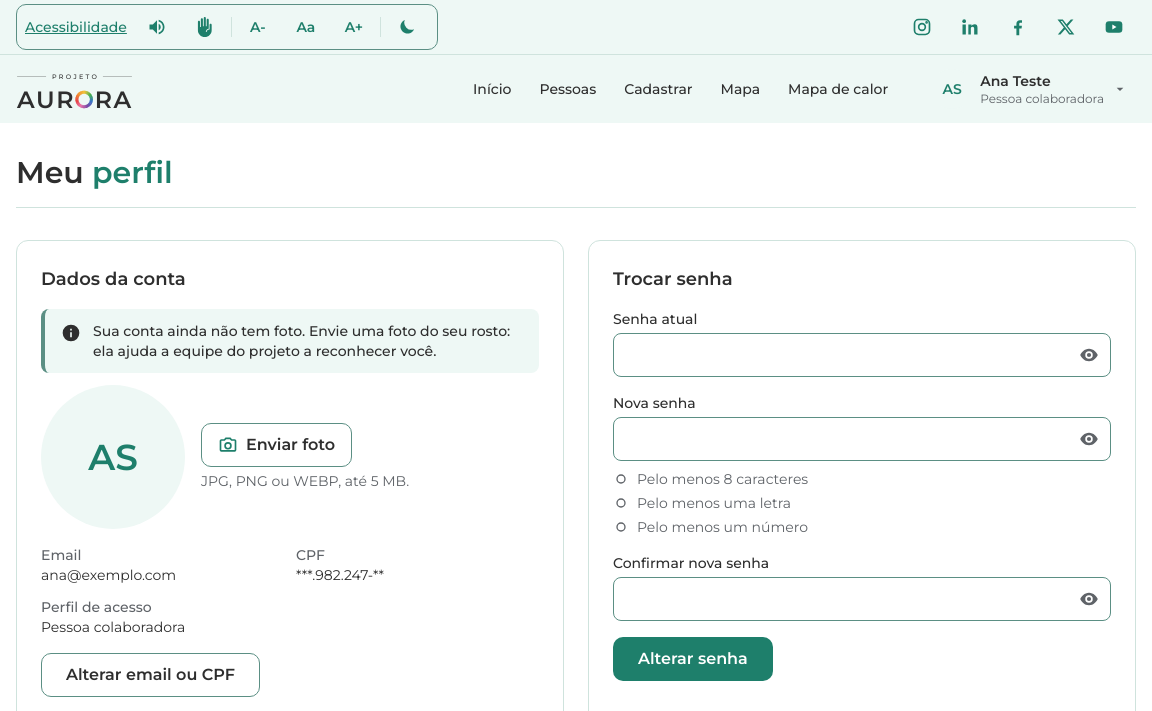
Test: Meu perfil: alterar email ou CPF › pede as duas trocas no popup e mostra que esperam a aprovação
The image size is (1152, 711).
Click the button "Alterar email ou CPF" at (150, 675), box [41, 653, 260, 697]
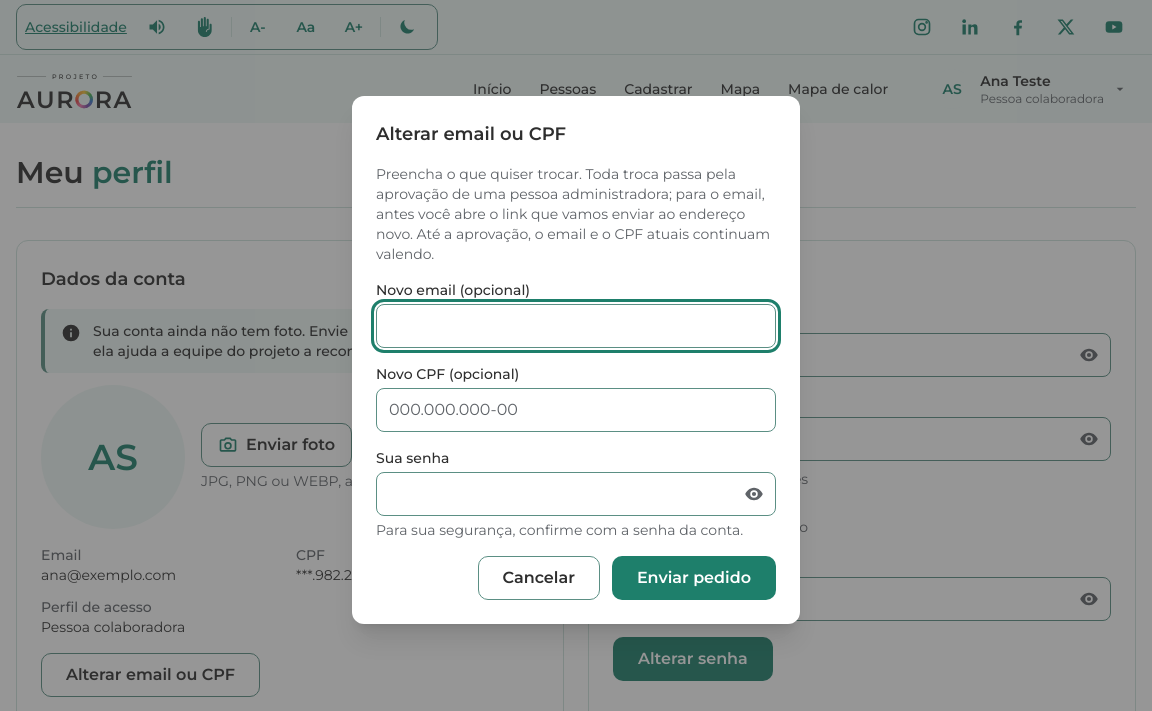
Type "ana.nova@exemplo.com" into the field labelled "Novo email (opcional)" at (576, 326), box [376, 304, 776, 348]
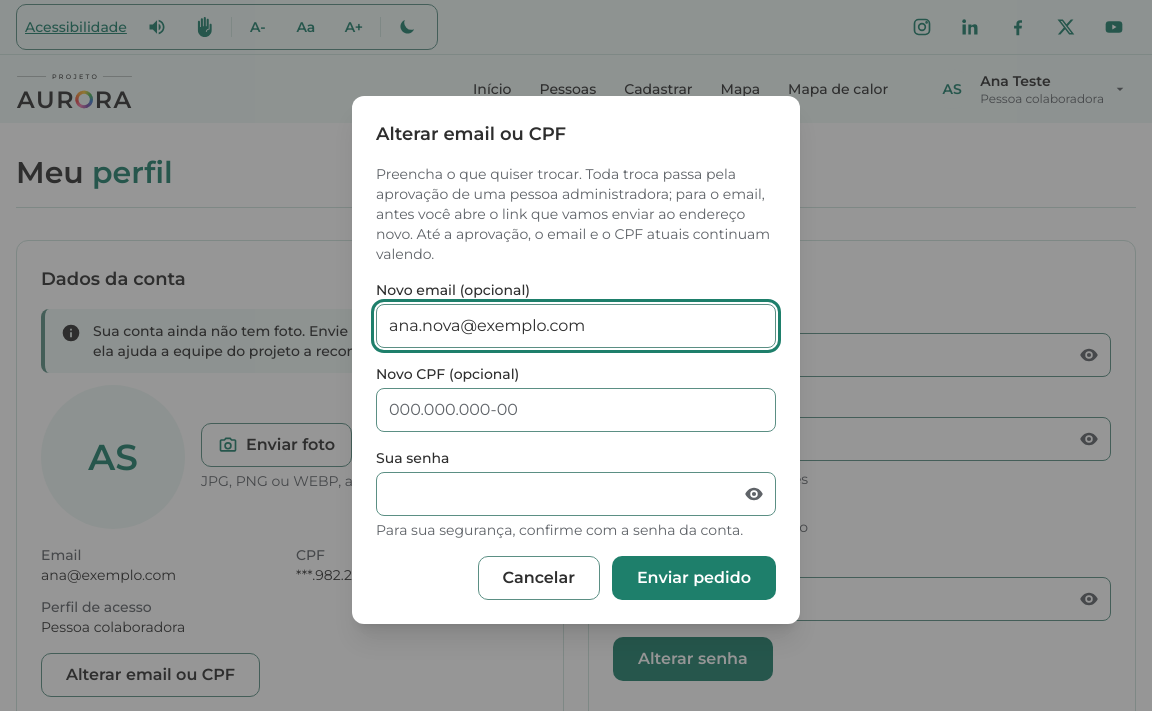
Type "11144477735" into the field labelled "Novo CPF (opcional)" at (576, 410), box [376, 388, 776, 432]
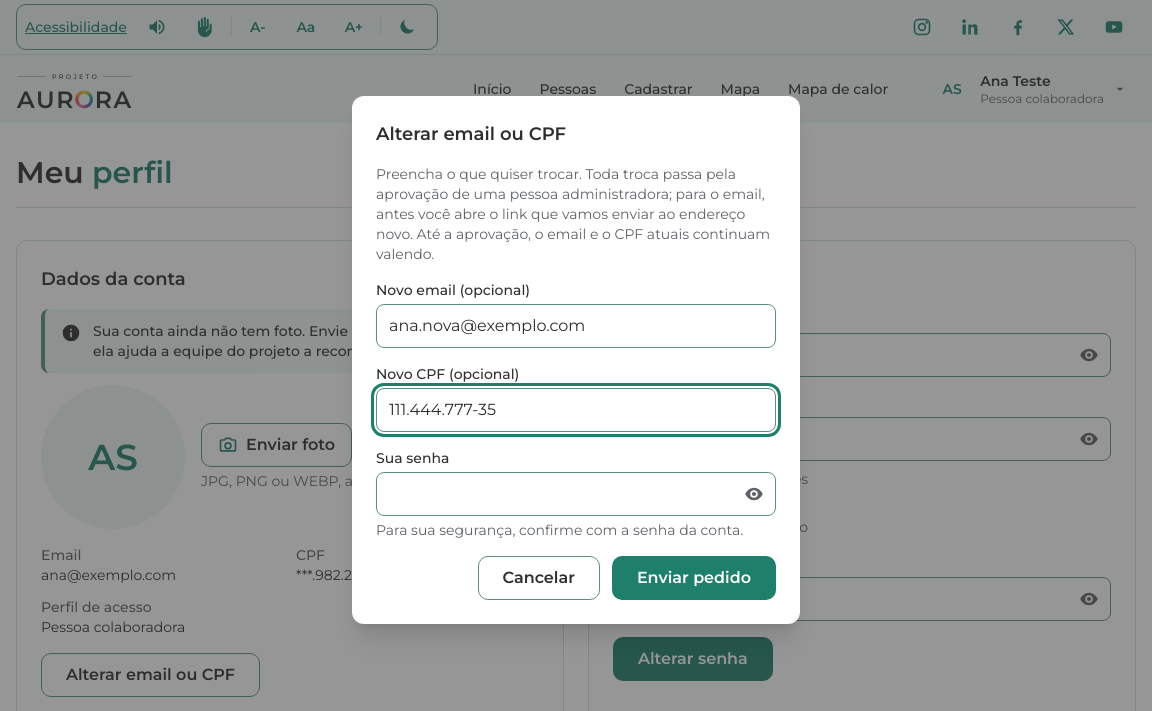
Type "SenhaBoa123" into the password field labelled "Sua senha" at (576, 494), box [376, 472, 776, 516]
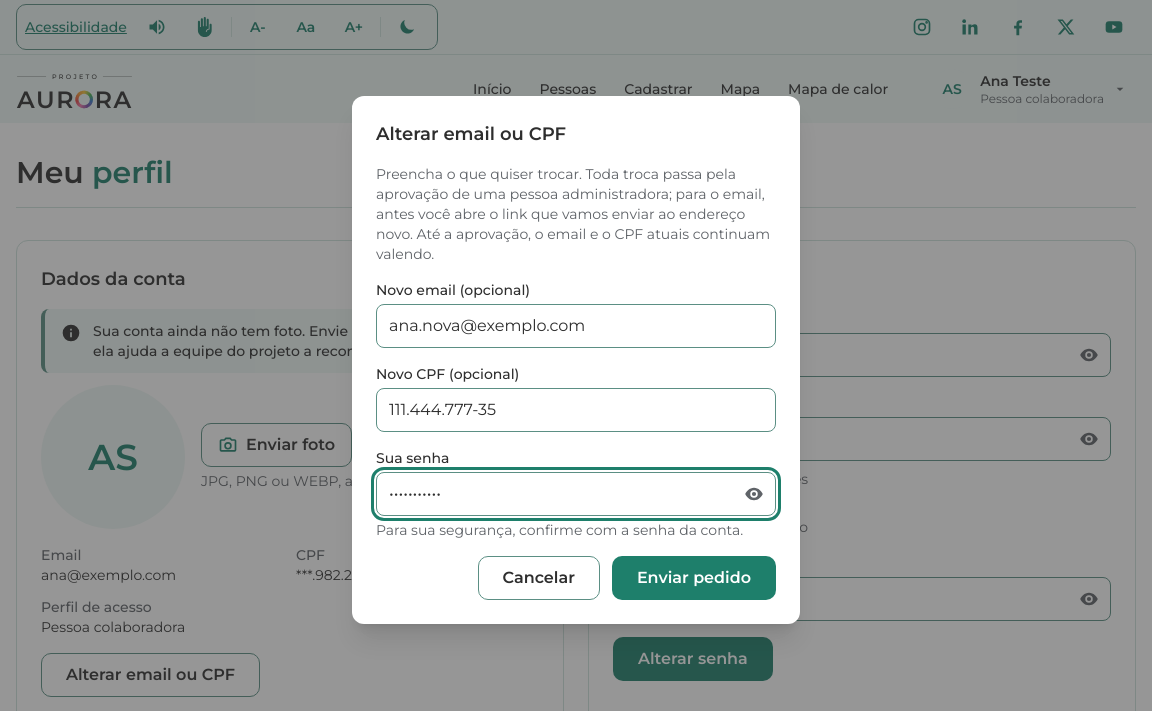
Click the button "Enviar pedido" at (694, 578), box [612, 556, 776, 600]
(page scrolled)
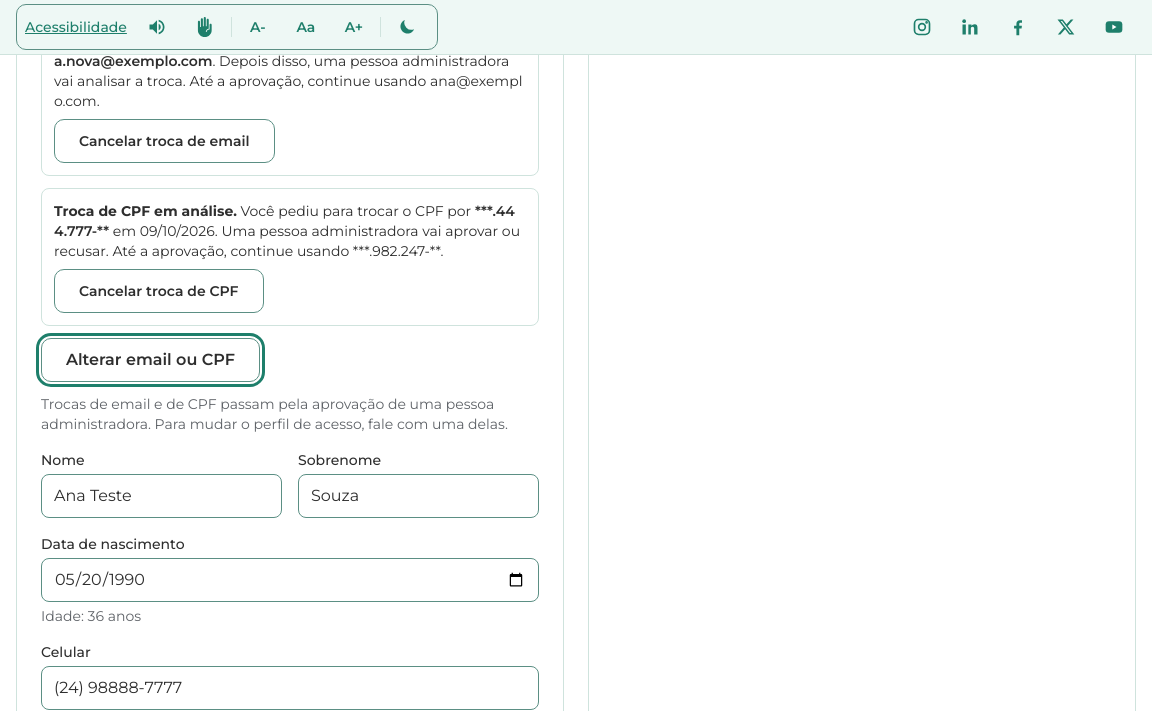
Expected: the dialog is gone
Expected: the text "Troca de email: falta abrir o link." is shown, [54, 32, 288, 50]
Expected: the text "Troca de CPF em análise." is shown, [54, 202, 237, 220]
